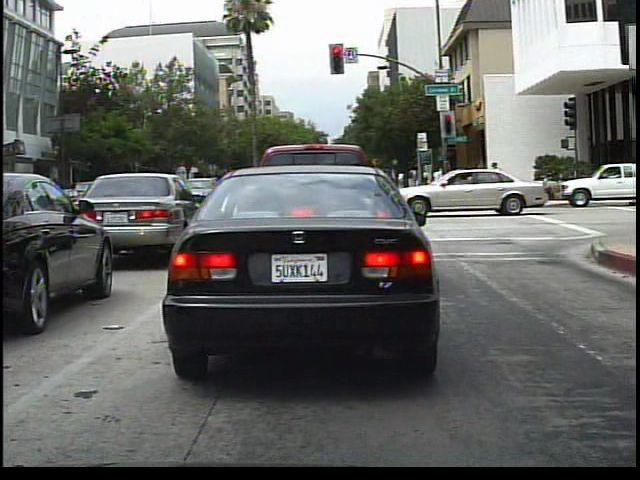person: (352, 161, 387, 217), (489, 157, 508, 198), (469, 158, 487, 199)
